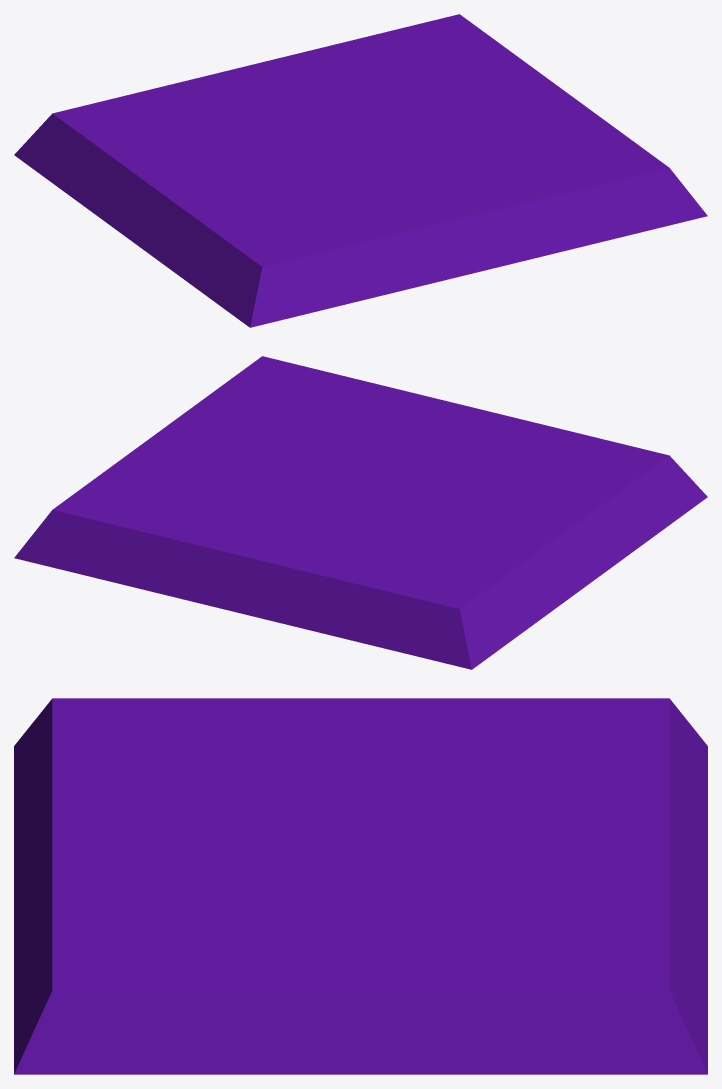
Rendered from SeatPouch_67_chunks.fbx.
3 renders of one model, top to bottom at view 1: azimuth 30°, elevation 25°; view 2: azimuth 150°, elevation 25°; view 3: azimuth 270°, elevation 25°, orthographic. The views are drawn at different scales.
Parts seen in each view (by area): view 1: SeatPouch_67_0; view 2: SeatPouch_67_0; view 3: SeatPouch_67_0.
Part boxes in pixels (x1,y1,x2,y2): SeatPouch_67_0: (14,14,707,327); SeatPouch_67_0: (14,356,707,669); SeatPouch_67_0: (14,698,707,1074).
Bounding box in the file's own units: 272 × 25.53 × 243.
